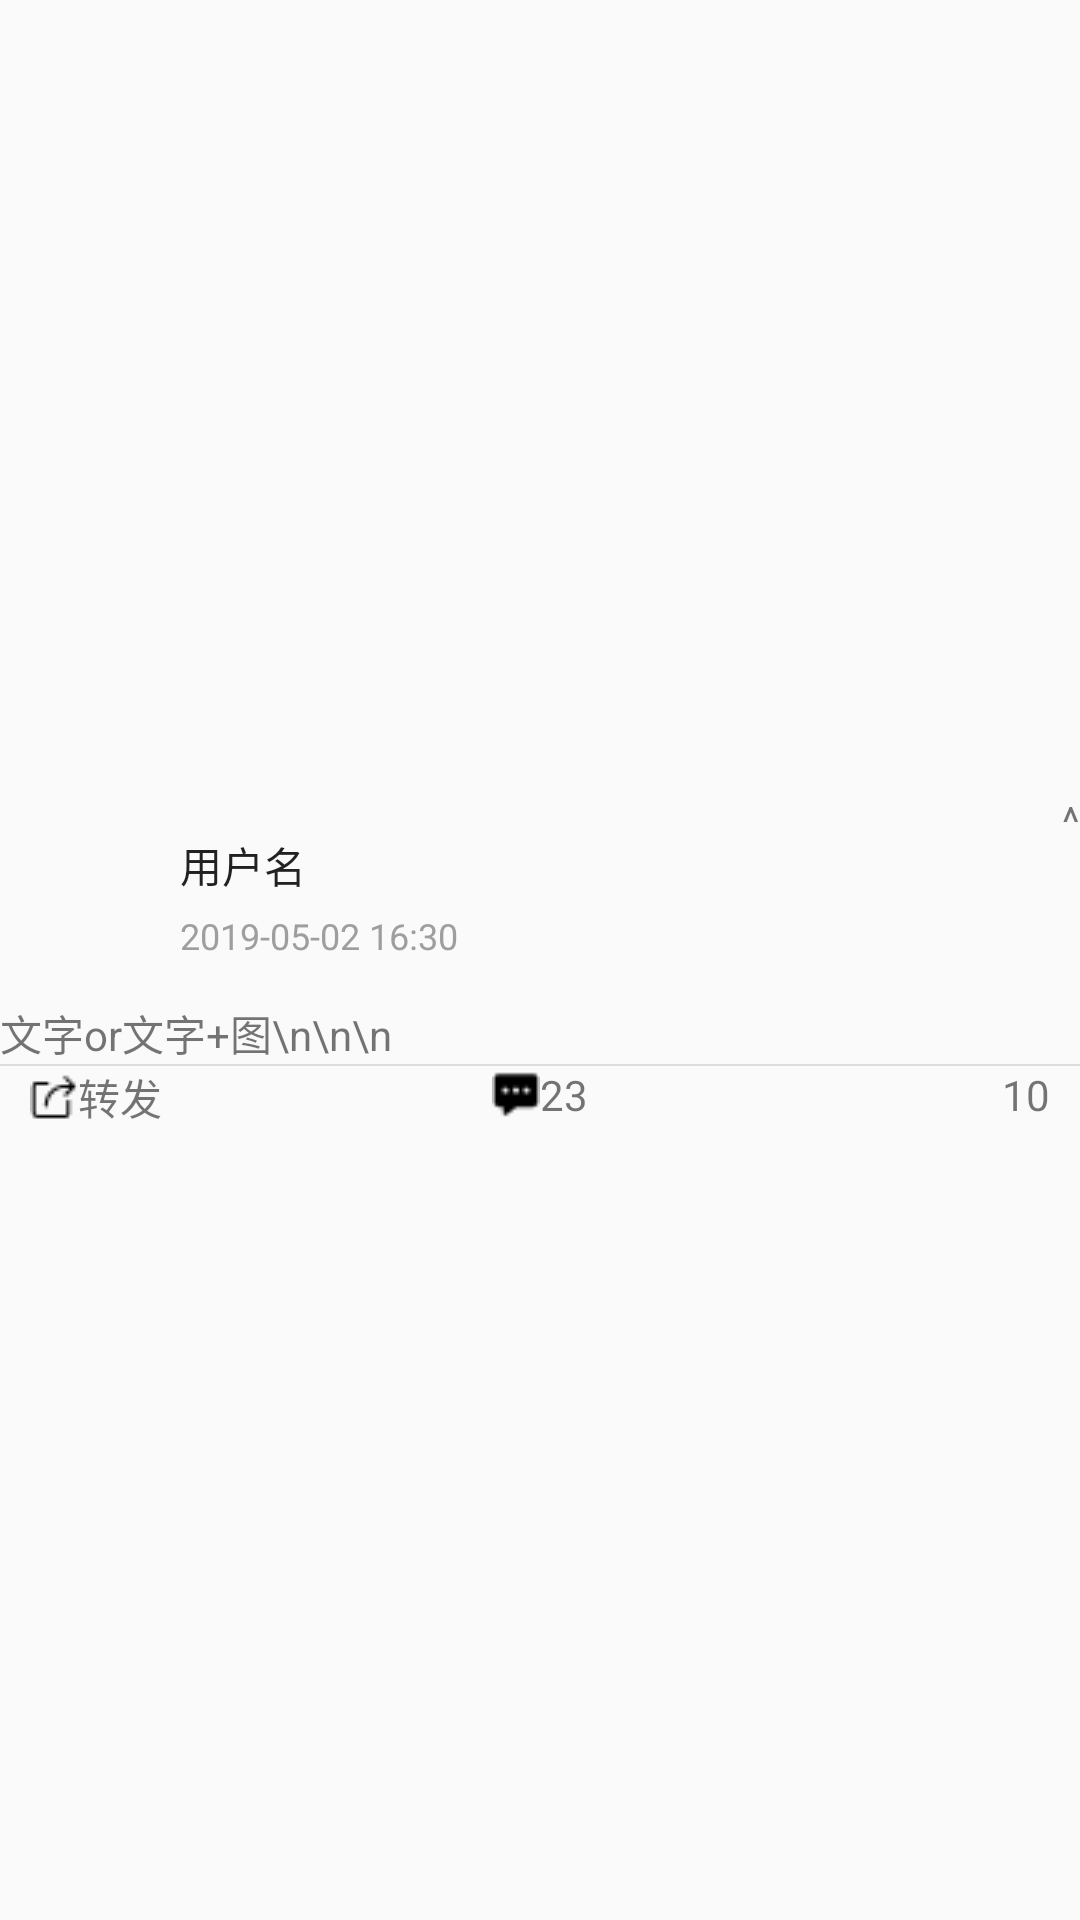

Icon bounding boxes for this 1080×1920 phone screenshot, format (x1, y1, x2, y2):
message: (492, 1072, 540, 1117)
